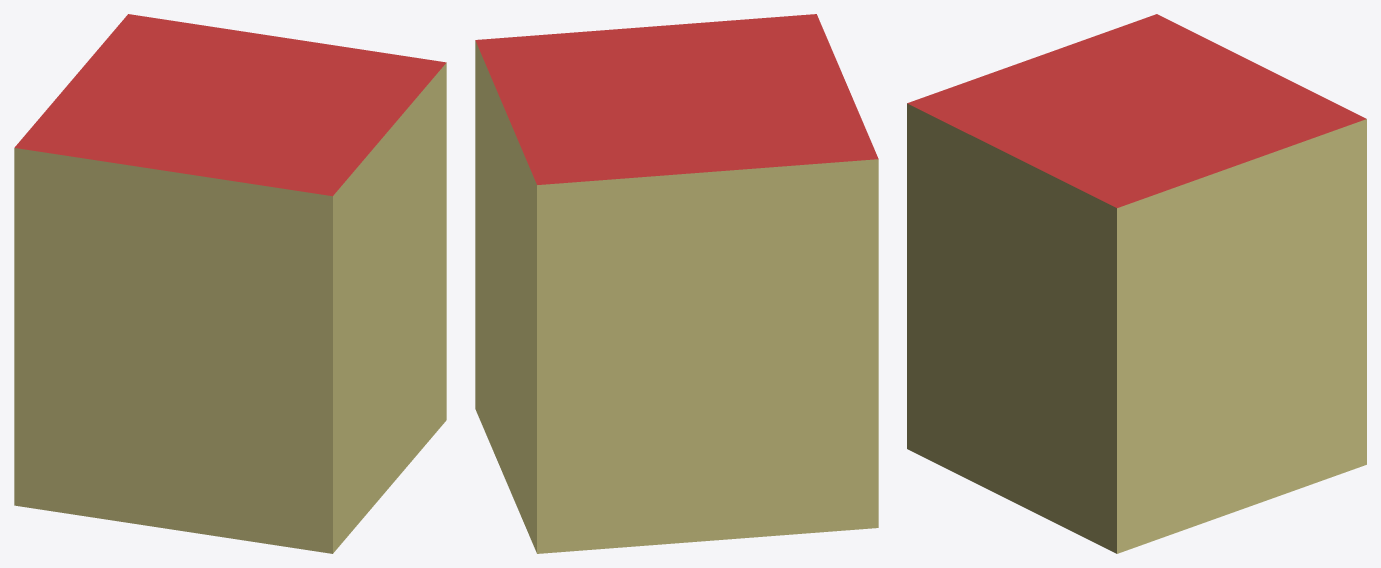
3 views of the same model, side by side, from view 1: azimuth 30°, elevation 25°; view 2: azimuth 150°, elevation 25°; view 3: azimuth 270°, elevation 25° (orthographic). The views are drawn at different scales.
Size of the model in its own units: 10.54 by 10.55 by 8.75.
